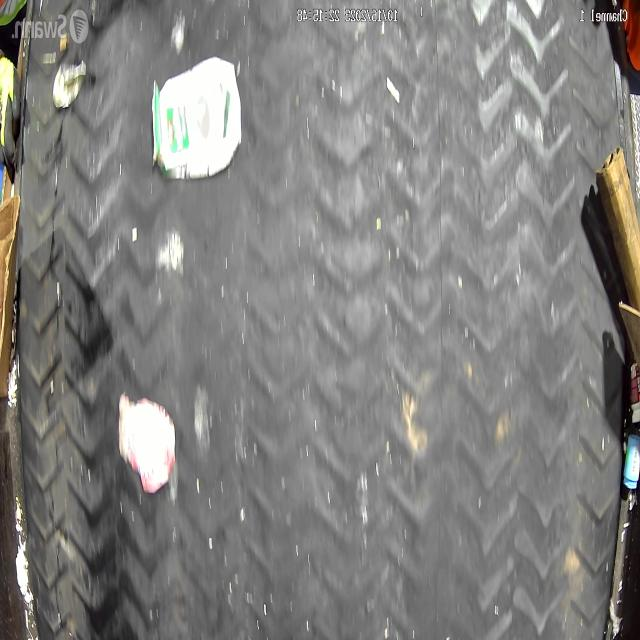non_white_jug: (151, 56, 242, 180)
